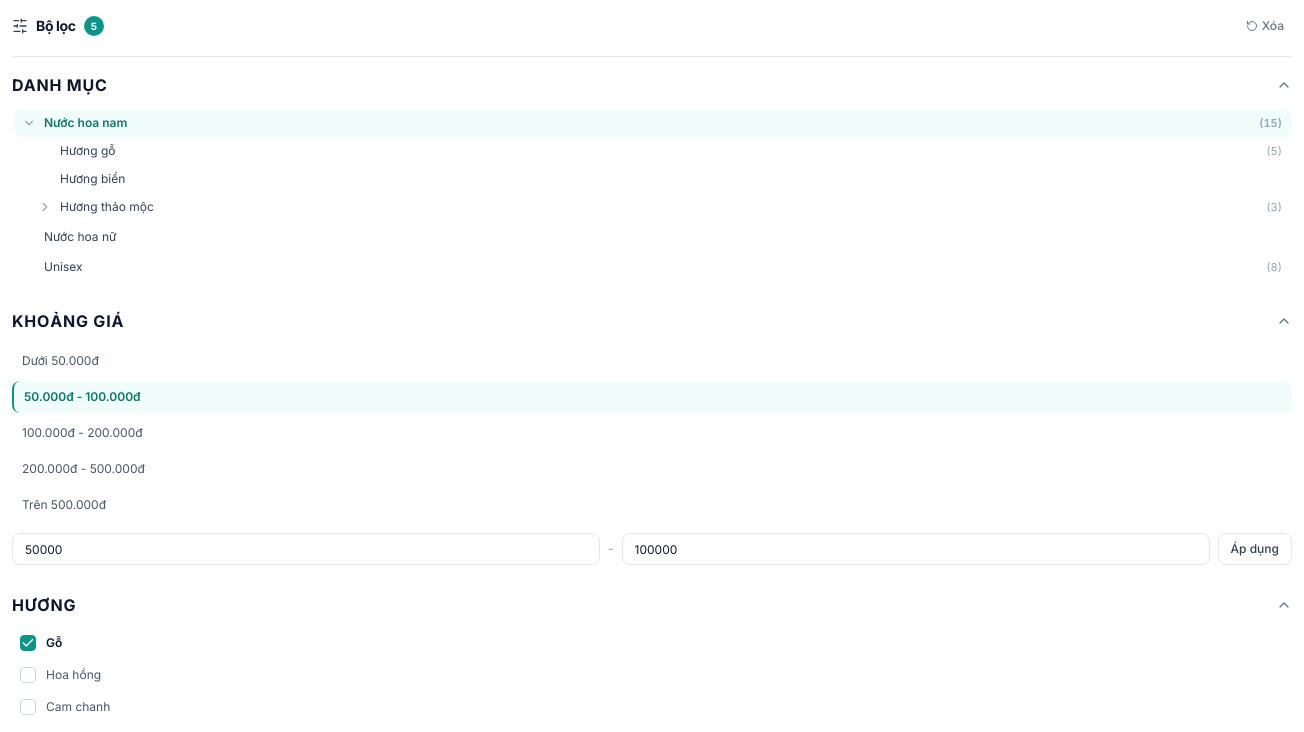
Test: FilterSidebar › Active filter count, header clear button, and tags section › clears all active filters when header "Xóa" button is clicked
Click the button "Xóa" at (1265, 26), box 1238,12 -> 1292,40
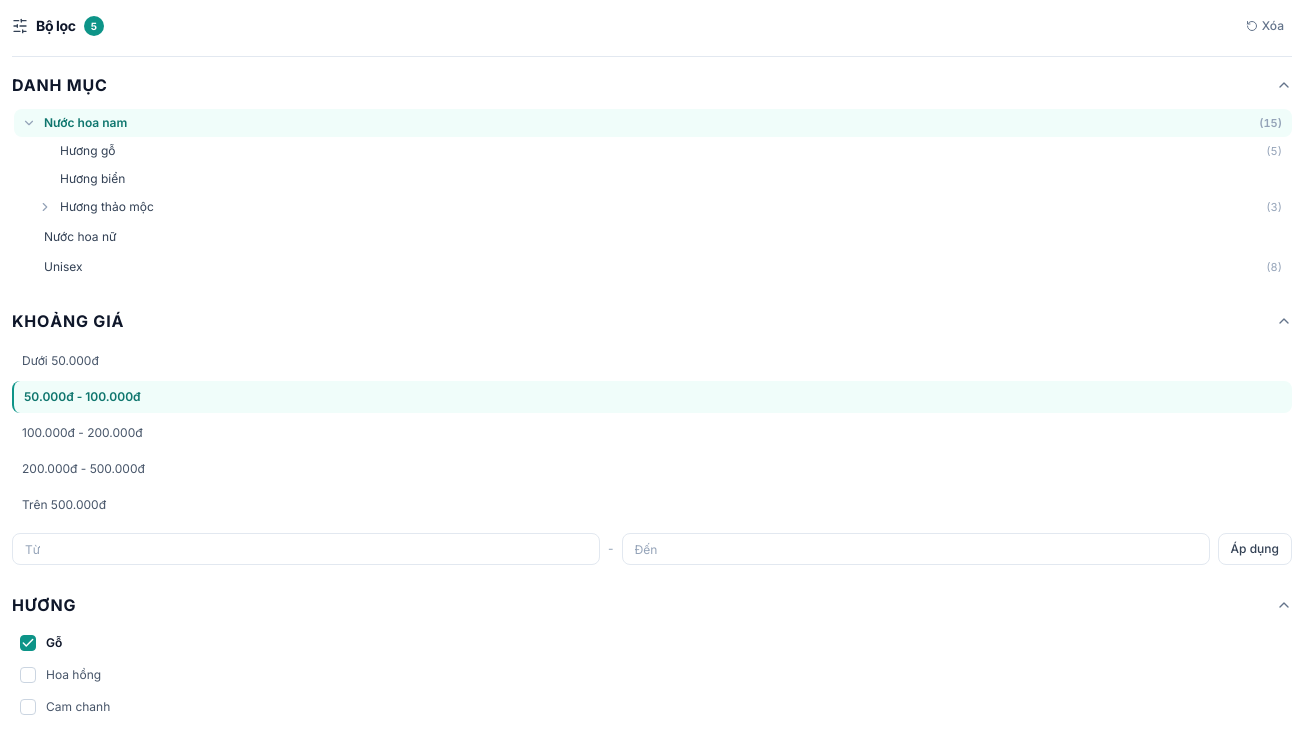
Expected: the number field with placeholder "Từ" is not empty, 12,533 -> 600,565
Expected: the number field with placeholder "Đến" is not empty, 622,533 -> 1210,565
